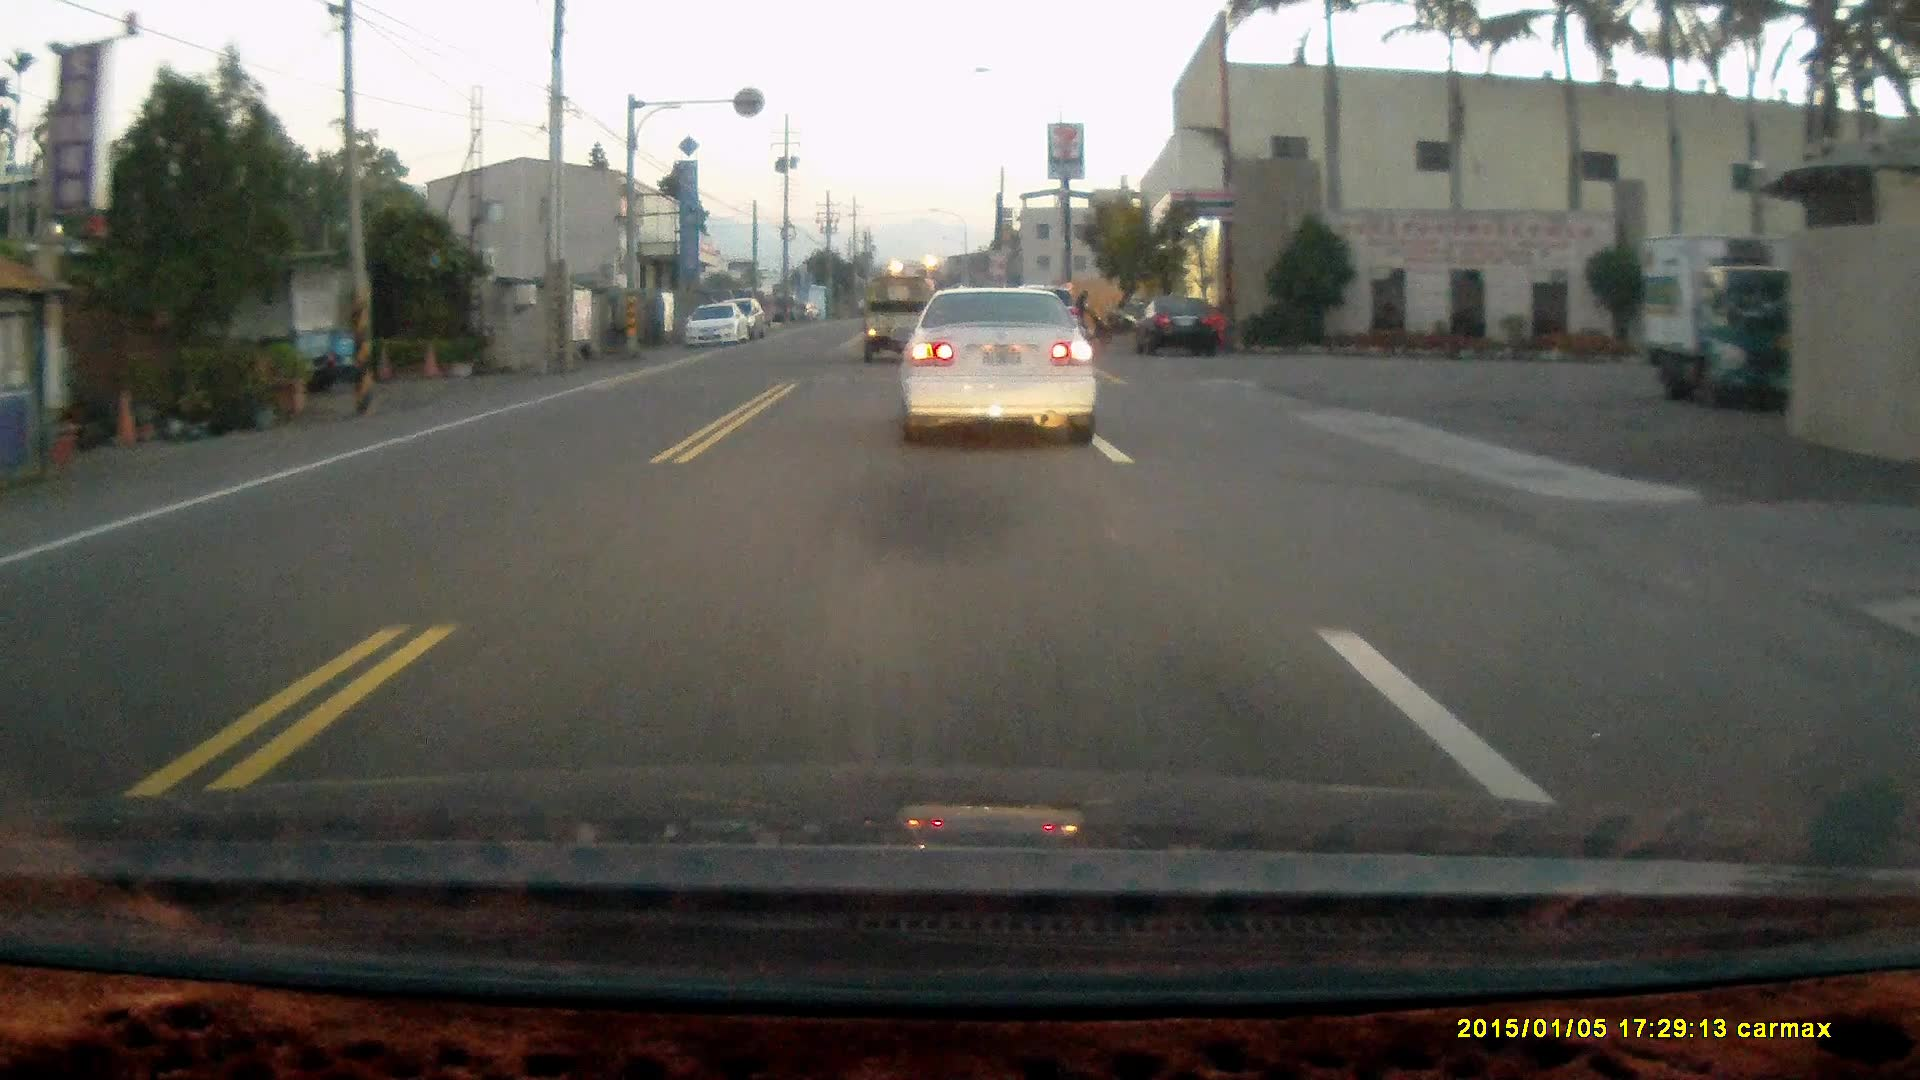rider: (1060, 288, 1111, 344)
vehicle: (900, 282, 1098, 449), (1639, 237, 1816, 411), (859, 276, 932, 362), (1126, 297, 1222, 360), (681, 302, 749, 350)
